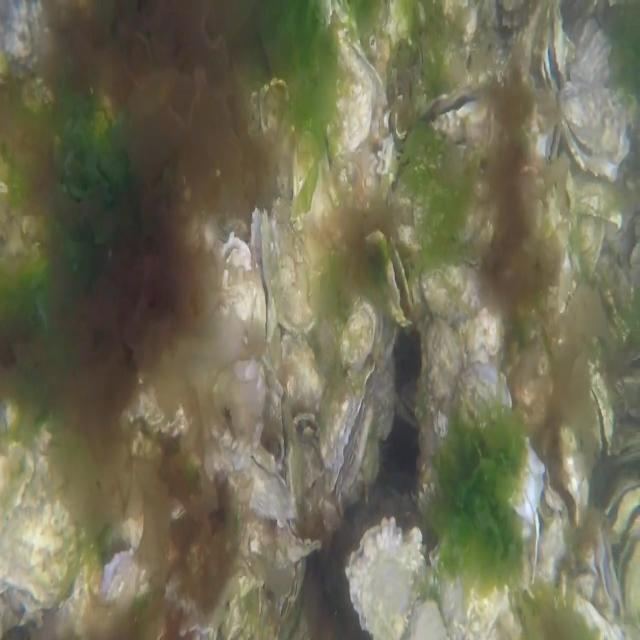Oyster-Closed: (428, 517, 524, 640), (320, 361, 376, 501), (223, 448, 298, 528), (278, 511, 323, 563)
Oyster-Indeterminate: (450, 362, 546, 519), (0, 428, 80, 612), (342, 516, 422, 639), (319, 0, 375, 162), (291, 130, 344, 270), (419, 316, 464, 471), (270, 192, 317, 335), (337, 294, 398, 378), (419, 258, 489, 322), (279, 331, 326, 422), (566, 167, 622, 230), (100, 549, 143, 611), (574, 212, 606, 278)
Oyster-Open: (557, 20, 639, 182), (534, 416, 588, 534), (243, 352, 285, 474), (421, 84, 493, 147), (218, 231, 254, 334), (248, 205, 272, 344), (383, 237, 415, 328), (595, 530, 624, 624), (600, 478, 640, 545), (542, 0, 568, 96), (616, 526, 640, 622), (590, 372, 612, 458), (609, 431, 640, 468)
